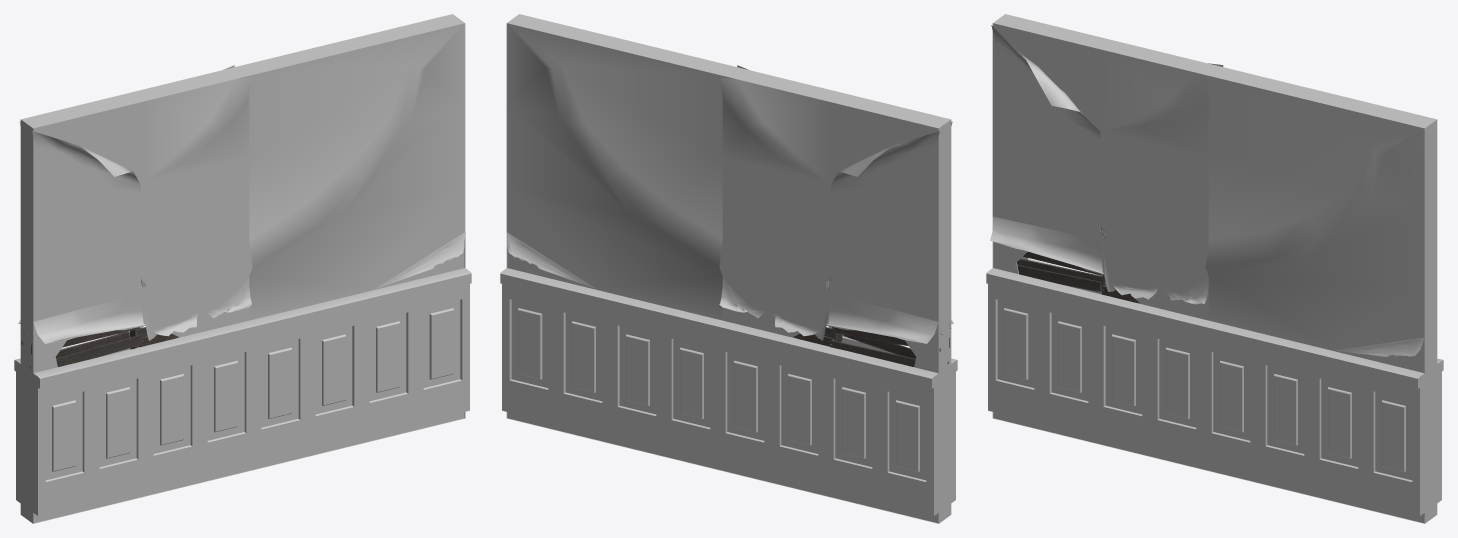
File: SM_Wall400B_DS.FBX
The picture shows the model from 3 angles, left to right: view 1: azimuth 30°, elevation 25°; view 2: azimuth 150°, elevation 25°; view 3: azimuth 330°, elevation 25°; orthographic projection.
Visible parts, largest first — view 1: SM_Wall400B_DS_LOD0; view 2: SM_Wall400B_DS_LOD0; view 3: SM_Wall400B_DS_LOD0.
Part boxes in pixels (x1,y1,x2,y2): SM_Wall400B_DS_LOD0: [14, 14, 471, 523]; SM_Wall400B_DS_LOD0: [500, 14, 957, 523]; SM_Wall400B_DS_LOD0: [986, 14, 1443, 523].
Size of what is drawn, in the model's own units: 404 by 350 by 55.91.
